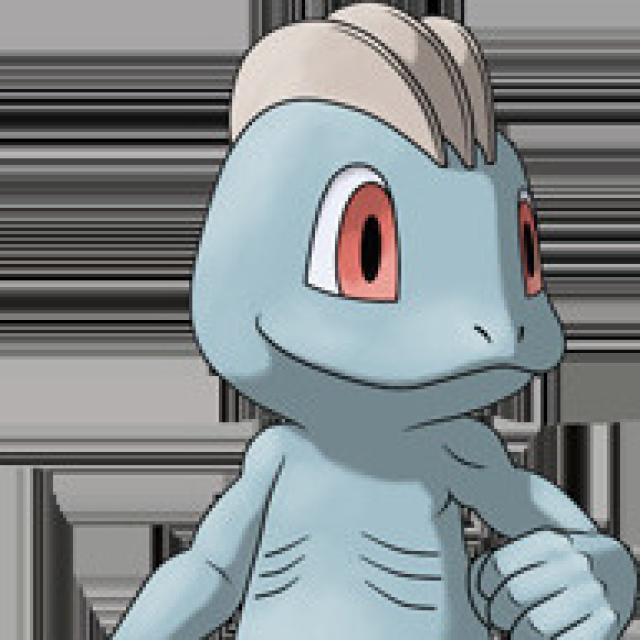Machop: (124, 5, 640, 640)
